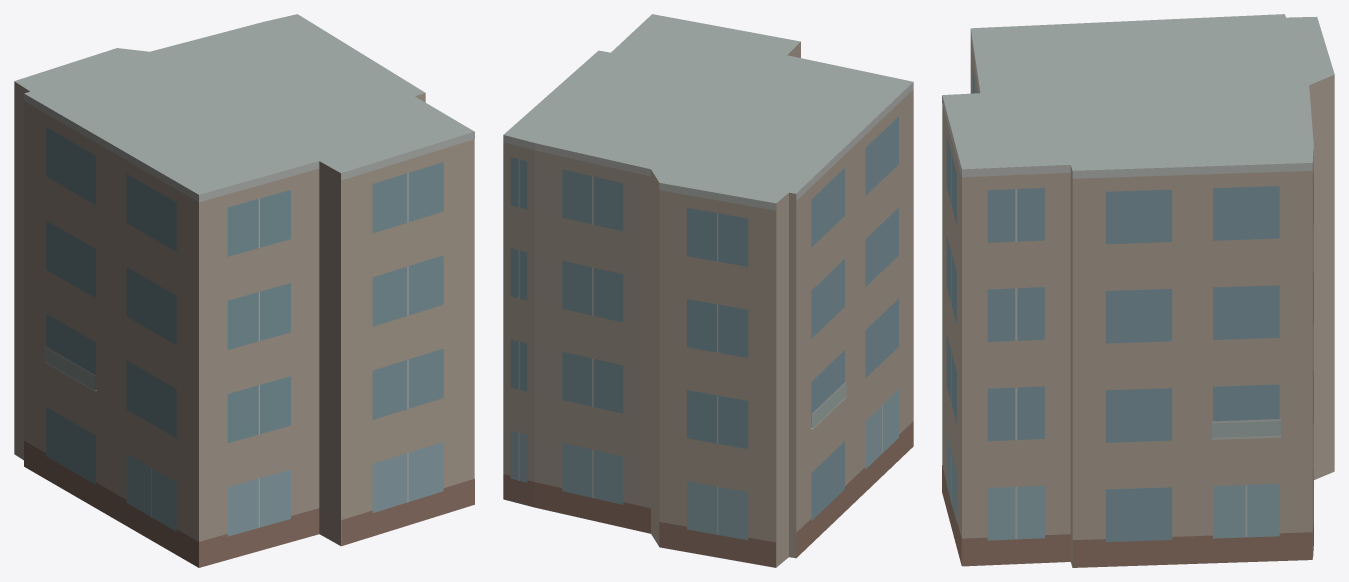
The model's file is survey-upis-32918839.glb.
3 views of the same model, side by side, from view 1: azimuth 30°, elevation 25°; view 2: azimuth 150°, elevation 25°; view 3: azimuth 270°, elevation 25° (orthographic). The views are drawn at different scales.
Visible parts, largest first — view 1: survey-upis-32918839.tmp; view 2: survey-upis-32918839.tmp; view 3: survey-upis-32918839.tmp.
Part boxes in pixels (x1=…): survey-upis-32918839.tmp: x1=14, y1=14, x2=474, y2=567; survey-upis-32918839.tmp: x1=503, y1=14, x2=913, y2=567; survey-upis-32918839.tmp: x1=942, y1=14, x2=1334, y2=567.
Size of the model in its own units: 10.35 by 12.2 by 10.94.
